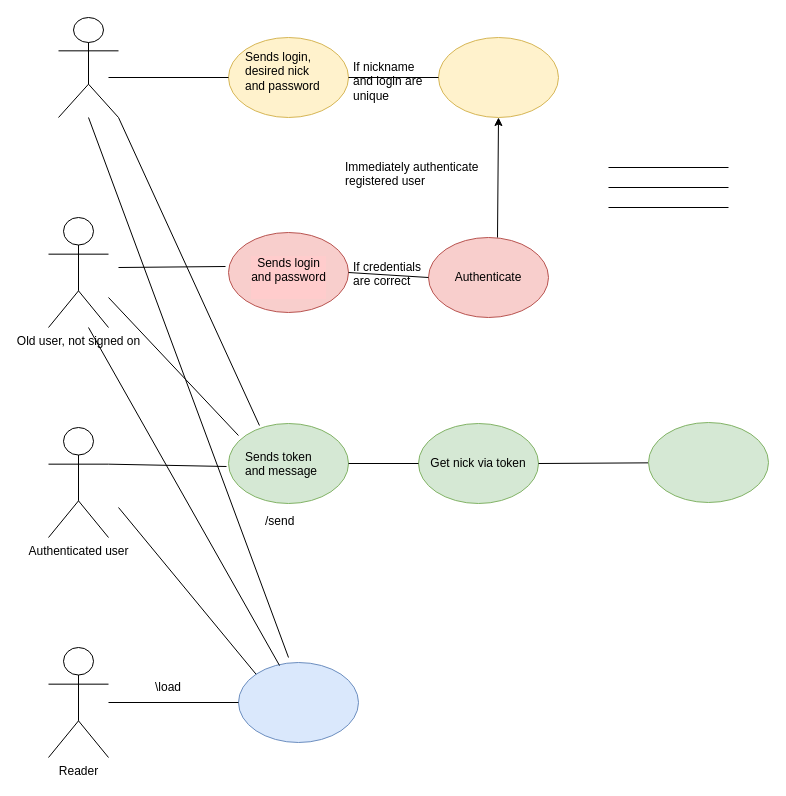
This 786x796 diagram has some shape labels left out. Each missing label, with the centre of its shape:
"A new user" belongs at (88,67).
"Load latest messages" belongs at (298,702).
"Put message in DB" belongs at (708,462).
"Register in the database" belongs at (498,77).
